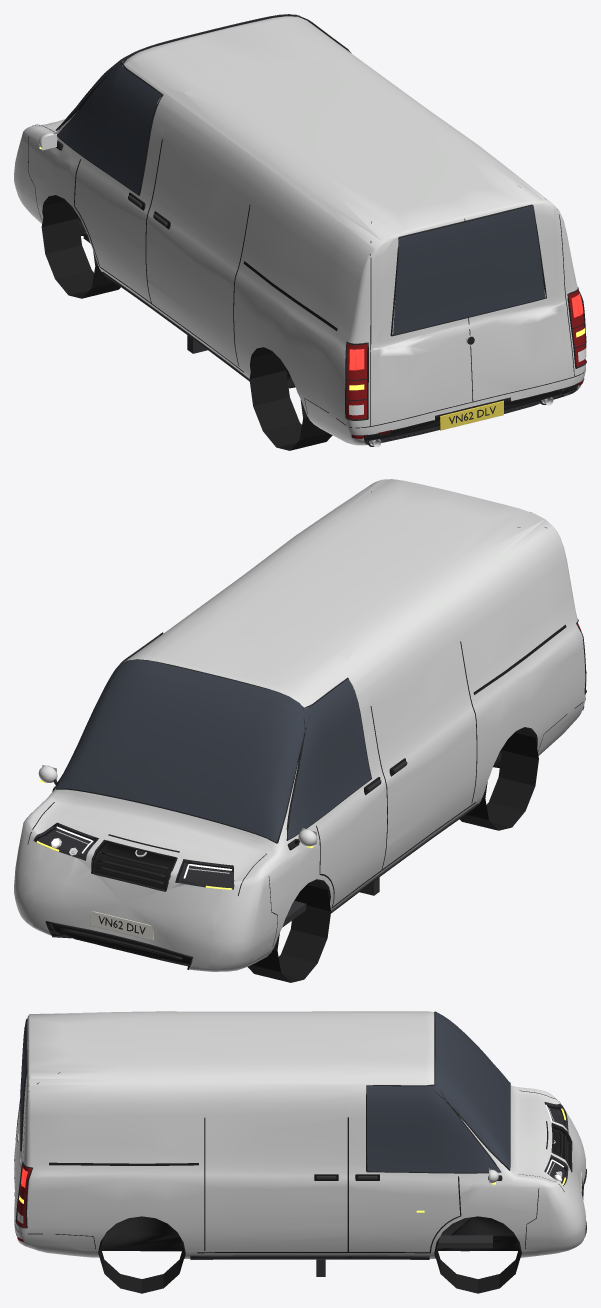
The model's file is civ_van.glb.
The picture shows the model from 3 angles, top to bottom: view 1: azimuth 30°, elevation 25°; view 2: azimuth 150°, elevation 25°; view 3: azimuth 270°, elevation 25°; orthographic projection. The views are drawn at different scales.
Parts seen in each view (by area): view 1: CabinOpening, DoorLeft; view 2: CabinOpening, DoorLeft; view 3: CabinOpening, DoorRight.
Boxes of the visible parts, <box> form: CabinOpening: <box>14,14,586,450</box>; DoorLeft: <box>69,61,176,301</box>; CabinOpening: <box>14,479,586,982</box>; DoorLeft: <box>294,668,387,908</box>; CabinOpening: <box>14,1011,586,1293</box>; DoorRight: <box>348,1083,480,1251</box>.
Size of the model in its own units: 2.25 by 2 by 4.99.
